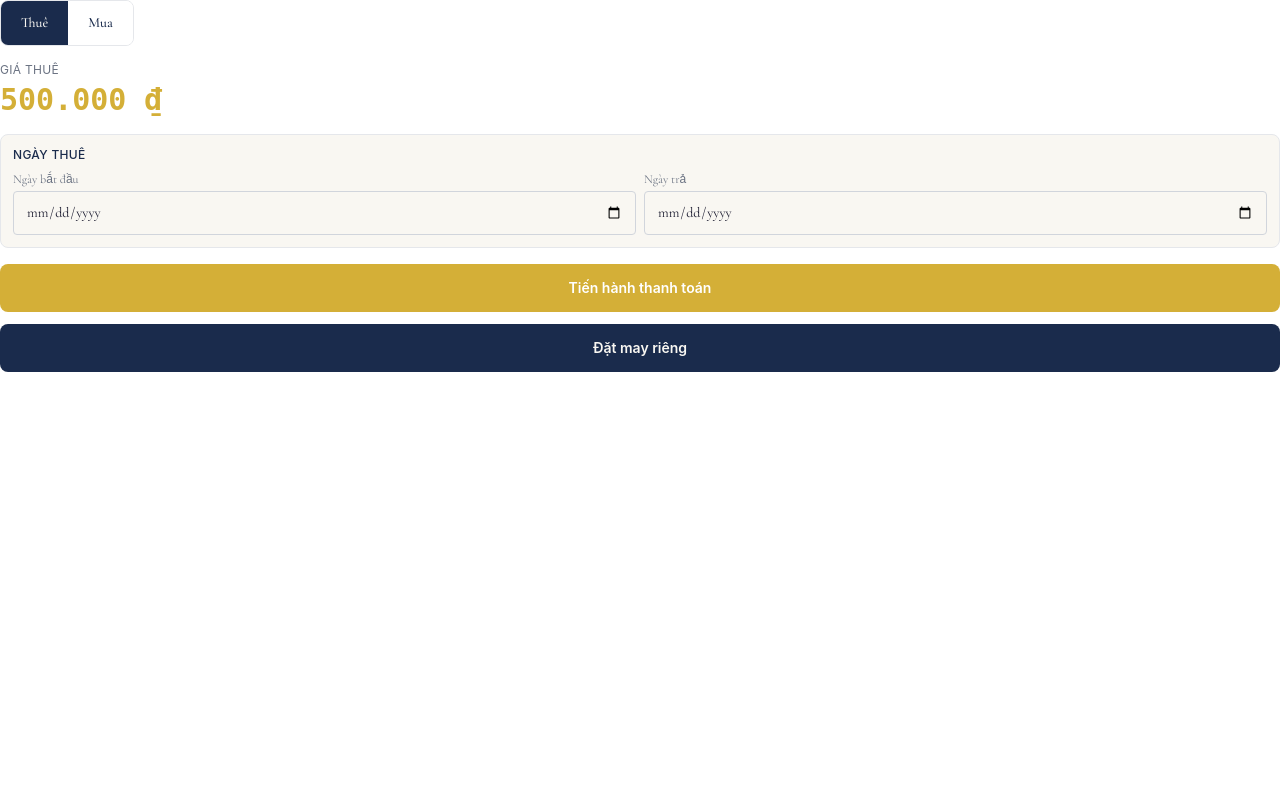
Test: BuyRentToggle (Story 2.2) › should open bespoke size modal when bespoke button is clicked
The image size is (1280, 800).
Click the button "Đặt may riêng".
click(640, 348)  # box x1=0 y1=324 x2=1279 y2=372
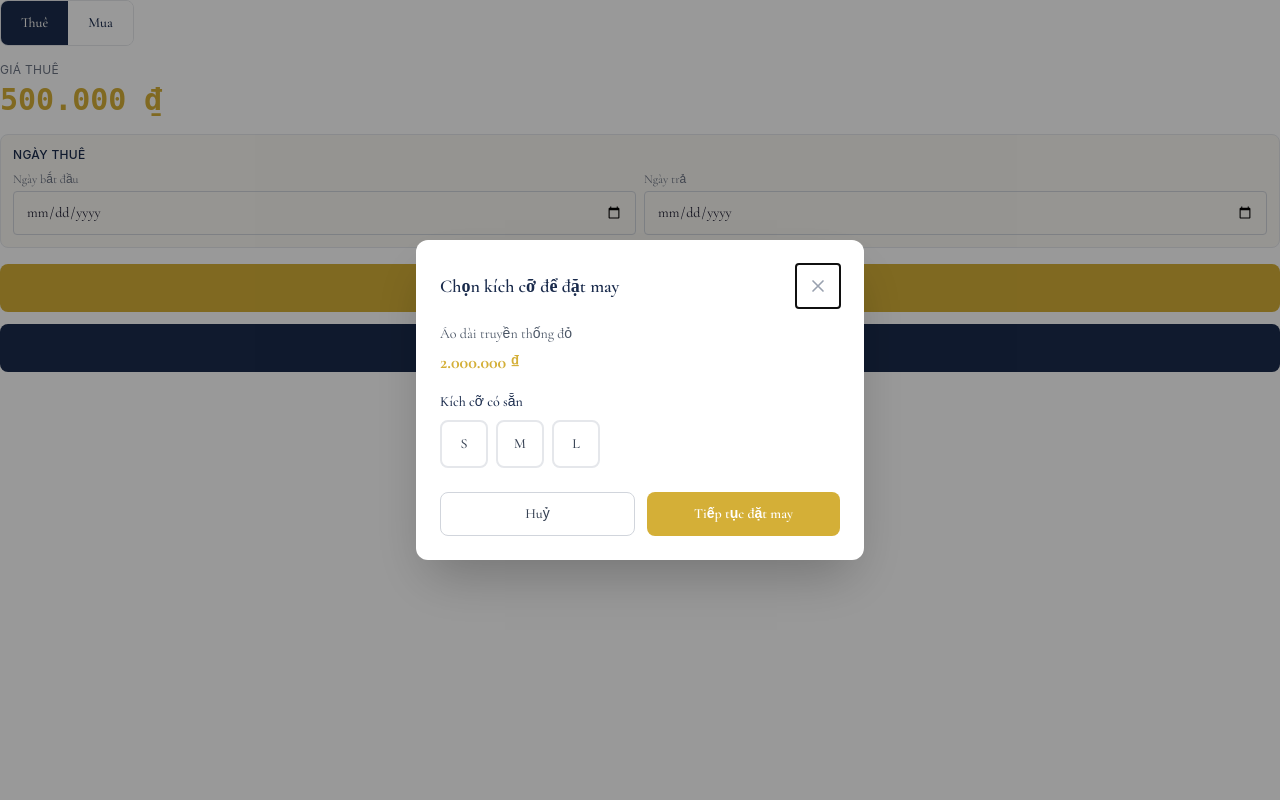
Result: the heading "Chọn kích cỡ để đặt may" is shown at x1=440 y1=272 x2=619 y2=300
